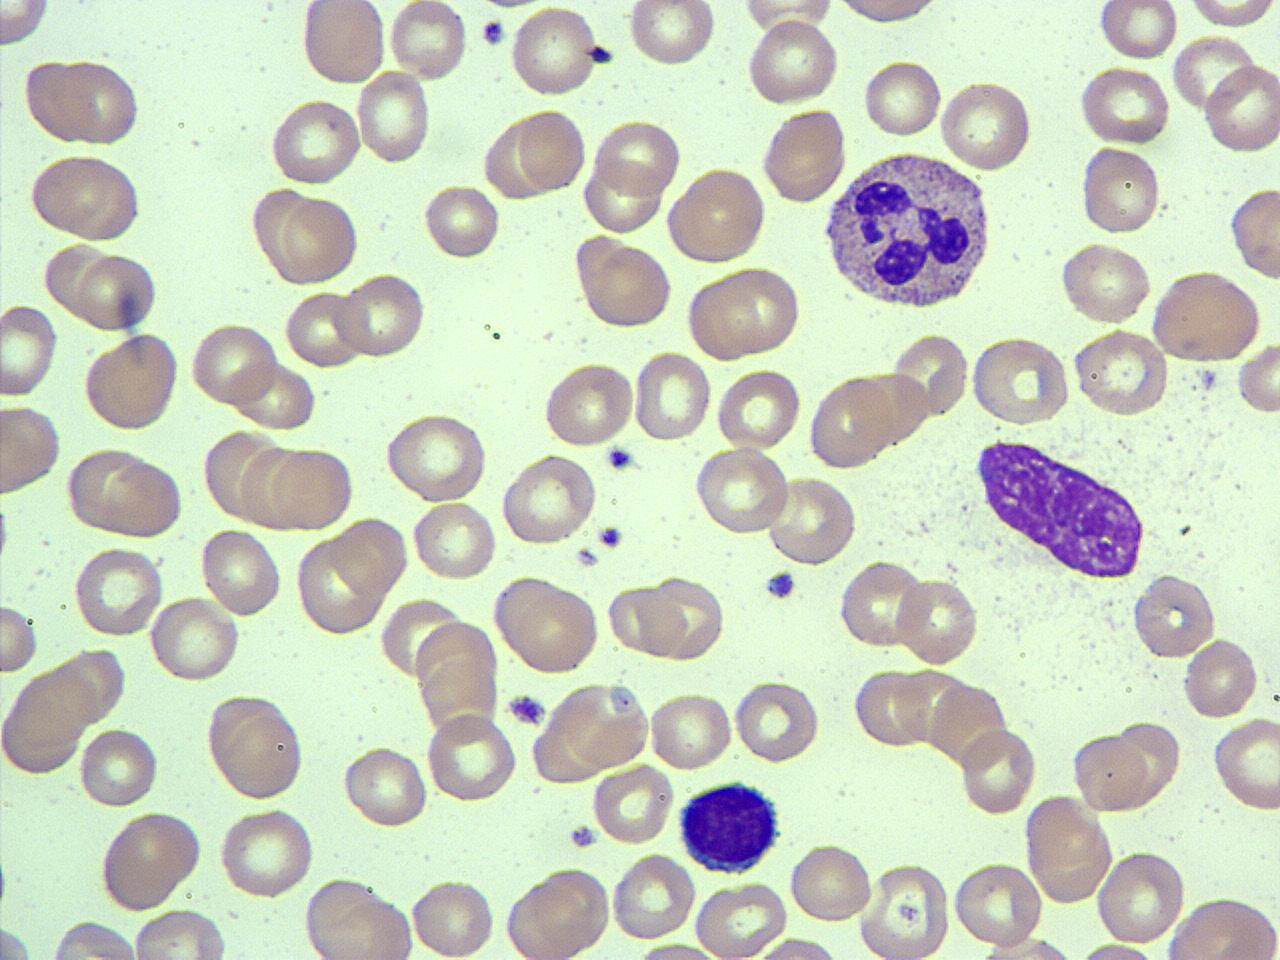Platelets: (502, 691, 550, 729), (763, 568, 798, 600), (479, 17, 509, 49), (568, 822, 598, 851), (605, 445, 635, 472), (595, 523, 625, 550), (574, 546, 600, 569), (588, 44, 614, 66)
RBC: (61, 444, 186, 539), (491, 572, 603, 677), (20, 56, 145, 149), (94, 808, 203, 914), (206, 691, 308, 803), (1149, 268, 1265, 366), (25, 151, 147, 244), (81, 328, 181, 436), (664, 165, 768, 266), (1024, 792, 1117, 904), (380, 411, 492, 503), (216, 803, 318, 901), (506, 866, 614, 958), (856, 860, 954, 960), (293, 532, 386, 638), (303, 874, 416, 960), (968, 334, 1072, 426), (500, 451, 599, 548), (938, 77, 1035, 174), (71, 544, 165, 642), (574, 238, 674, 332), (1095, 849, 1189, 947), (707, 262, 805, 356), (1071, 326, 1171, 418), (424, 708, 520, 804), (693, 444, 791, 536), (758, 105, 849, 205), (508, 3, 600, 101), (540, 358, 638, 450), (766, 474, 860, 568), (950, 857, 1045, 949), (746, 17, 842, 108), (268, 96, 364, 187), (148, 594, 242, 686), (556, 680, 651, 770), (806, 375, 896, 471), (338, 269, 429, 361), (186, 318, 279, 408), (275, 190, 362, 285), (1057, 240, 1153, 327), (1077, 143, 1165, 237), (340, 742, 431, 831), (734, 676, 822, 766), (1131, 570, 1219, 662), (838, 559, 924, 651), (896, 575, 981, 670), (354, 67, 433, 166), (199, 526, 283, 620), (1077, 63, 1173, 145), (786, 840, 876, 928), (632, 347, 713, 444), (610, 852, 697, 941), (591, 116, 685, 198), (692, 879, 789, 959), (409, 872, 497, 960), (300, 0, 388, 88), (714, 366, 804, 451), (958, 723, 1039, 818), (268, 444, 356, 530), (590, 760, 676, 848), (77, 722, 161, 812), (410, 497, 498, 583), (1202, 61, 1280, 157), (1162, 896, 1280, 960), (640, 575, 727, 661), (1169, 31, 1257, 115), (684, 271, 765, 362), (379, 594, 462, 682), (647, 690, 735, 772), (1182, 632, 1262, 722), (1111, 712, 1185, 808), (862, 55, 944, 141), (386, 0, 469, 84), (1070, 730, 1152, 815), (76, 252, 160, 333), (1211, 713, 1279, 814), (235, 442, 309, 532), (602, 579, 686, 658), (515, 103, 589, 194), (283, 288, 366, 368), (852, 665, 928, 750), (422, 181, 502, 262), (232, 357, 318, 432), (624, 0, 718, 68), (0, 402, 63, 501), (581, 160, 663, 235), (1, 301, 61, 400), (42, 239, 115, 321), (130, 906, 232, 959), (1227, 183, 1279, 284), (1095, 0, 1179, 62), (39, 918, 144, 959), (738, 0, 841, 37), (828, 0, 944, 30), (1233, 343, 1279, 417), (0, 602, 41, 675), (975, 934, 1085, 960), (1183, 0, 1280, 29), (740, 934, 848, 960), (0, 1, 53, 53), (630, 939, 728, 960)
WBC: (818, 146, 995, 317), (973, 432, 1153, 582), (674, 777, 786, 878)
